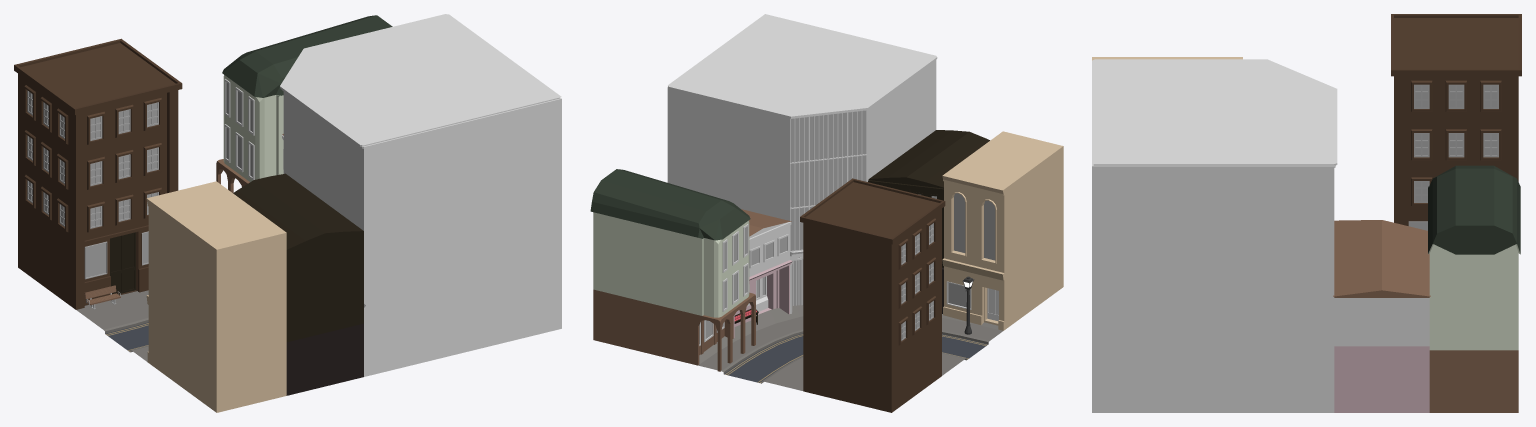
The model's file is turn.glb.
3 views of the same model, side by side, from view 1: azimuth 30°, elevation 25°; view 2: azimuth 150°, elevation 25°; view 3: azimuth 270°, elevation 25° (orthographic). The views are drawn at different scales.
Visible parts, largest first — view 1: Cube.141, Cube.062, Cube.107, Cube.065, Cube.136, Cube.063, Cube.057, Cube.064, Street, bench; view 2: Cube.141, Cube.063, Cube.107, Cube.062, Cube.057, Street, Cube.136, Cube.155, Cube.066, Cube.149, Cube.150, Cube.151 (+7 smaller); view 3: Cube.141, Cube.063, Cube.107, Cube.065, Cube.155, Cube.066, Cube.062, Cube.121, Cube.124, Cube.120, Cube.122, Cube.123 (+1 smaller).
Boxes of the visible parts, left/top/right/bottom form: Cube.141: left=280, top=14, right=561, bottom=305; Cube.062: left=146, top=181, right=286, bottom=412; Cube.107: left=14, top=38, right=182, bottom=248; Cube.065: left=364, top=257, right=561, bottom=376; Cube.136: left=233, top=173, right=363, bottom=342; Cube.063: left=216, top=15, right=392, bottom=192; Cube.057: left=18, top=206, right=148, bottom=309; Cube.064: left=286, top=323, right=363, bottom=395; Street: left=76, top=290, right=148, bottom=361; bench: left=84, top=285, right=120, bottom=309; Cube.141: left=667, top=14, right=937, bottom=251; Cube.063: left=590, top=169, right=755, bottom=371; Cube.107: left=800, top=178, right=945, bottom=359; Cube.062: left=942, top=131, right=1063, bottom=330; Cube.057: left=803, top=323, right=941, bottom=412; Street: left=698, top=305, right=1002, bottom=390; Cube.136: left=868, top=130, right=989, bottom=267; Cube.155: left=741, top=209, right=791, bottom=276; Cube.066: left=733, top=260, right=792, bottom=337; Cube.149: left=790, top=161, right=808, bottom=208; Cube.150: left=848, top=110, right=866, bottom=156; Cube.151: left=829, top=112, right=847, bottom=158; Cube.141: left=1092, top=59, right=1337, bottom=336; Cube.063: left=1428, top=165, right=1520, bottom=412; Cube.107: left=1391, top=14, right=1521, bottom=219; Cube.065: left=1092, top=336, right=1334, bottom=412; Cube.155: left=1333, top=220, right=1430, bottom=346; Cube.066: left=1334, top=346, right=1429, bottom=412; Cube.062: left=1092, top=57, right=1242, bottom=60; Cube.121: left=1448, top=133, right=1464, bottom=157; Cube.124: left=1448, top=84, right=1464, bottom=108; Cube.120: left=1483, top=133, right=1498, bottom=157; Cube.122: left=1414, top=133, right=1429, bottom=157; Cube.123: left=1414, top=84, right=1429, bottom=108.
Bounding box in the file's own units: 20.31 × 13.12 × 20.11.
